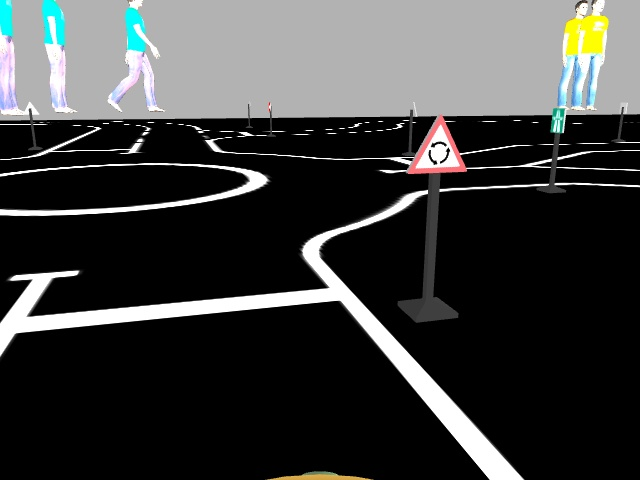HighwayEntrance: (550, 105, 567, 134)
Roundabout: (403, 114, 469, 180)
